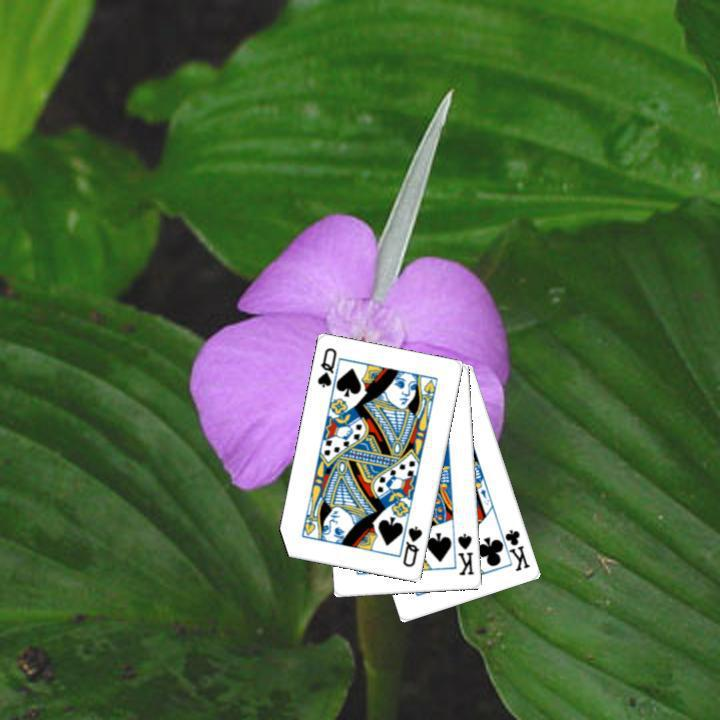K: (495, 524, 532, 573), (454, 529, 476, 578)
Q: (399, 522, 425, 569), (313, 344, 339, 390)
